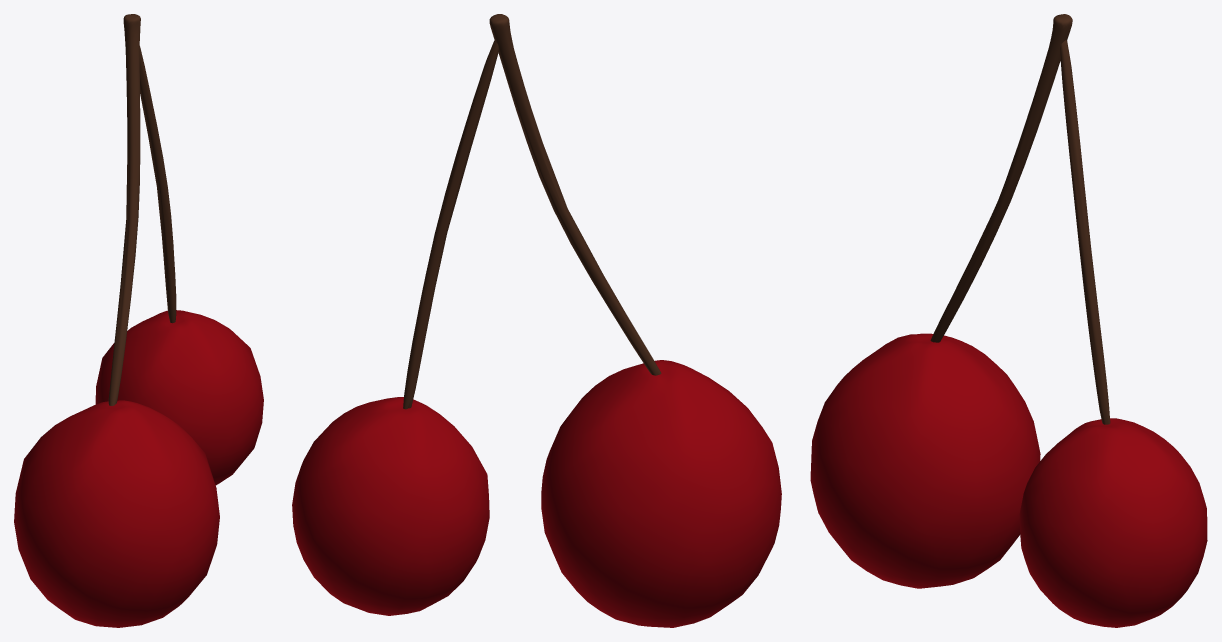
File: Cherry_good.fbx
3 views of the same model, side by side, from view 1: azimuth 30°, elevation 25°; view 2: azimuth 150°, elevation 25°; view 3: azimuth 270°, elevation 25° (orthographic). The views are drawn at different scales.
Parts seen in each view (by area): view 1: Cheery_good; view 2: Cheery_good; view 3: Cheery_good.
Part boxes in pixels (left/top/right/bottom): Cheery_good: left=14, top=14, right=263, bottom=627; Cheery_good: left=292, top=14, right=781, bottom=627; Cheery_good: left=810, top=14, right=1207, bottom=627.
Bounding box in the file's own units: 0.805 × 1.35 × 0.8.
